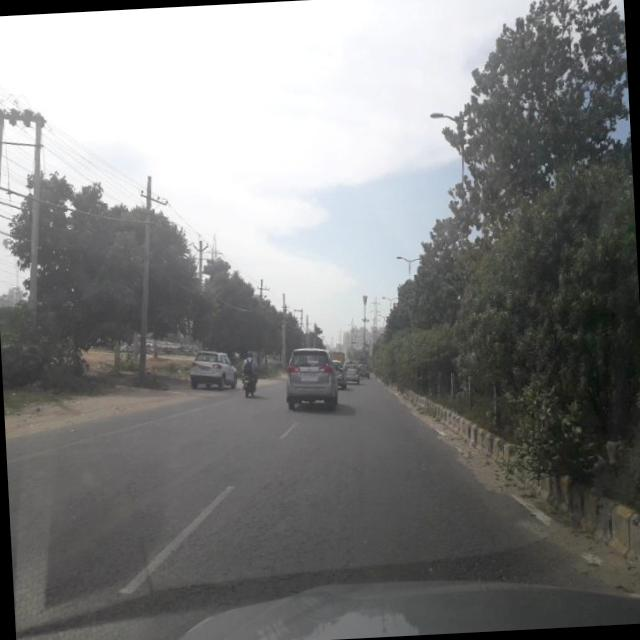crack: (7, 429, 579, 634)
